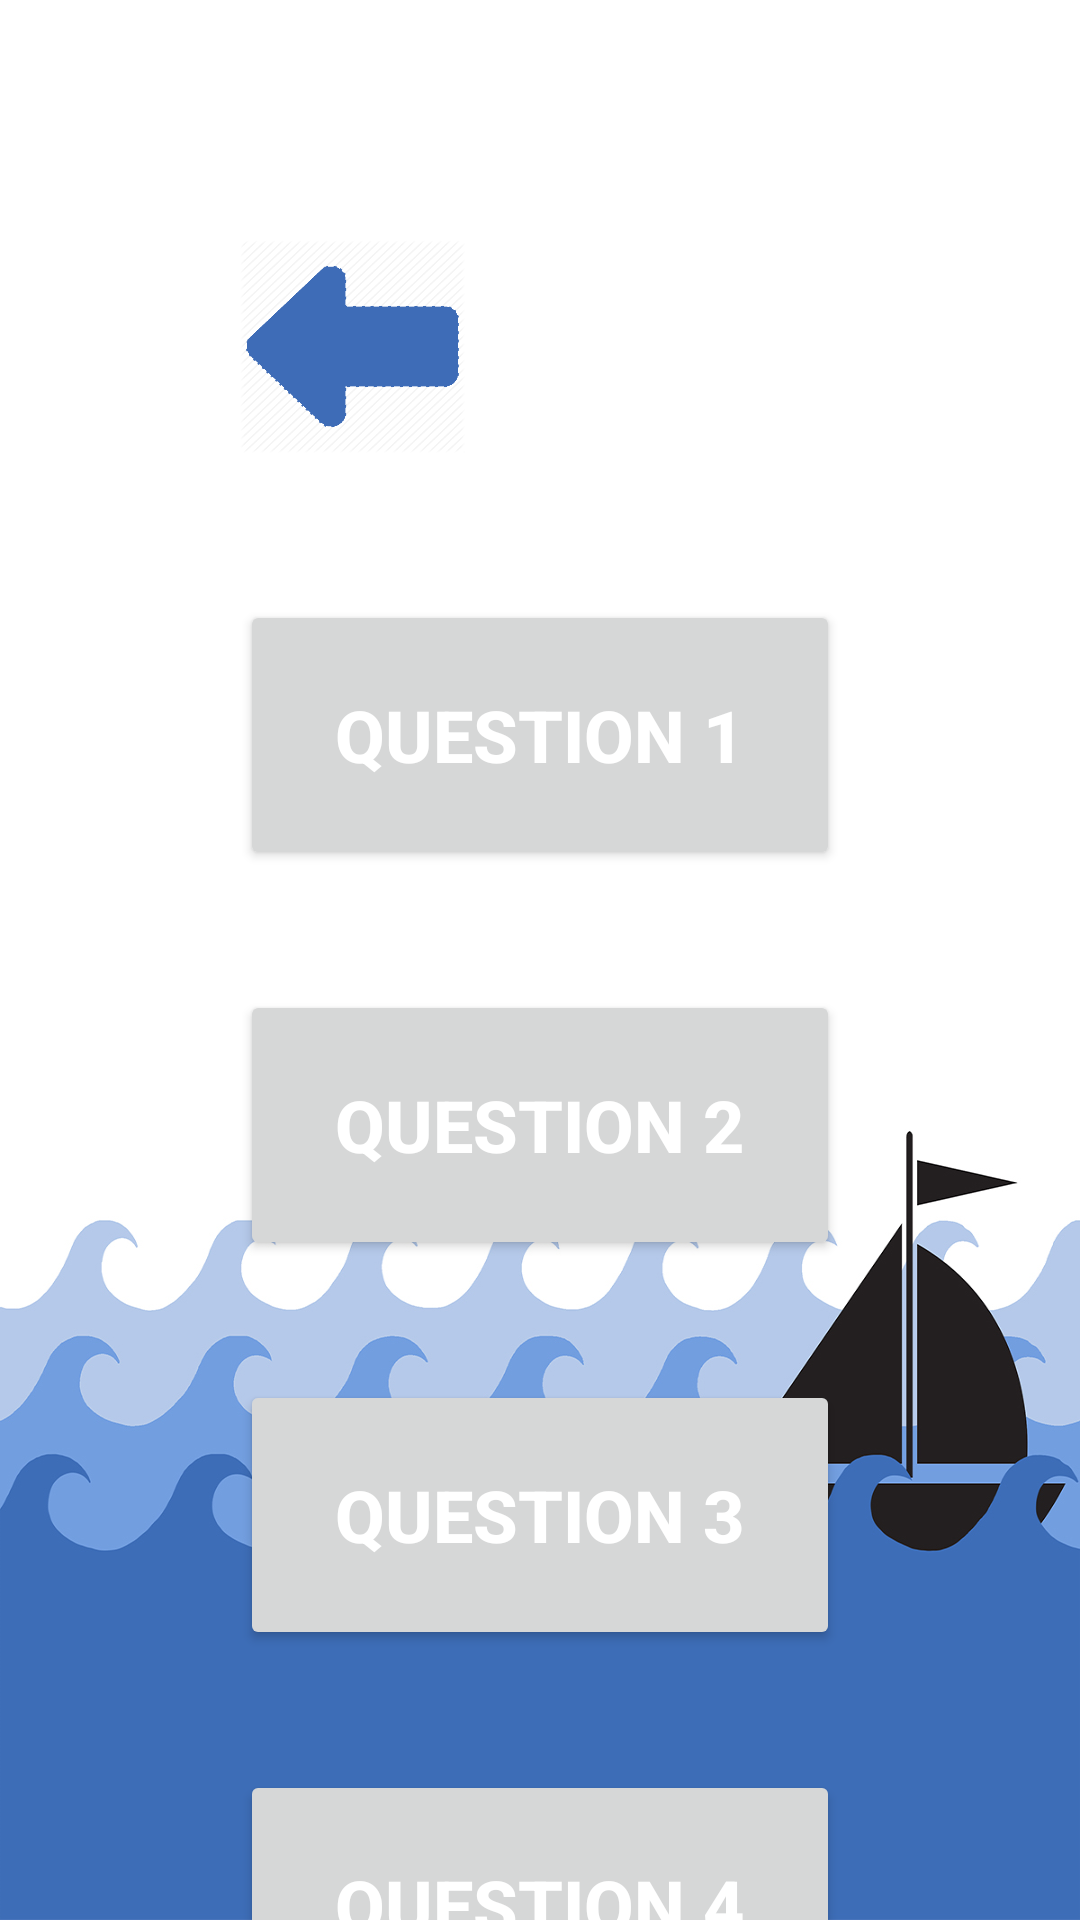

Where icons sit on this 1080×1920 app screen, as (x1, y1, x2, y2):
left arrow: (246, 266, 459, 427)
